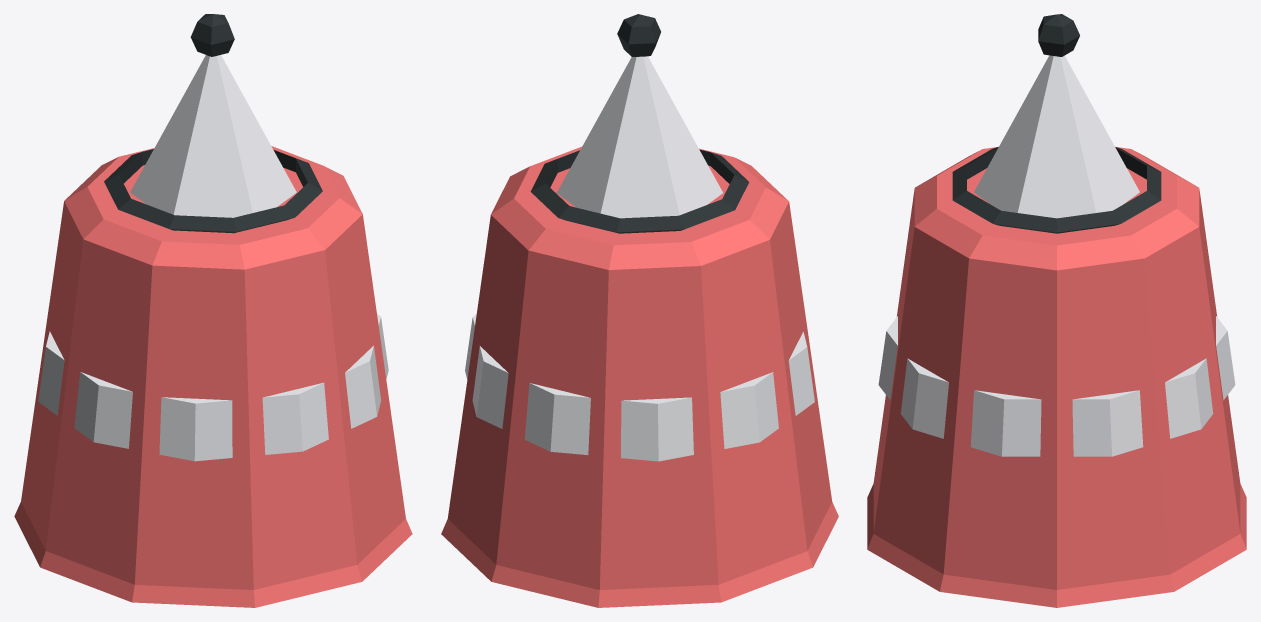
The model's file is buoyBob.glb.
3 renders of one model, left to right at view 1: azimuth 30°, elevation 25°; view 2: azimuth 150°, elevation 25°; view 3: azimuth 270°, elevation 25°, orthographic.
Visible parts, largest first — view 1: buoyBob-m; view 2: buoyBob-m; view 3: buoyBob-m.
Part boxes in pixels (x1,y1,x2,y2): buoyBob-m: [14, 14, 412, 607]; buoyBob-m: [441, 14, 838, 607]; buoyBob-m: [867, 14, 1246, 607].
Size of the model in its own units: 1.2 by 1.87 by 1.14.
